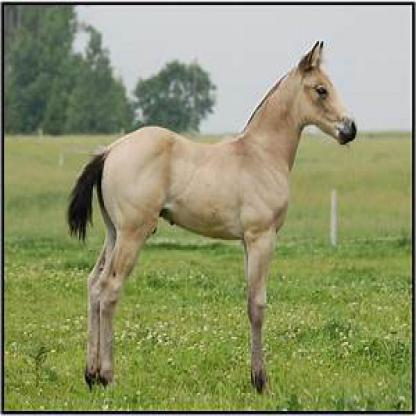horse: (72, 59, 356, 393)
